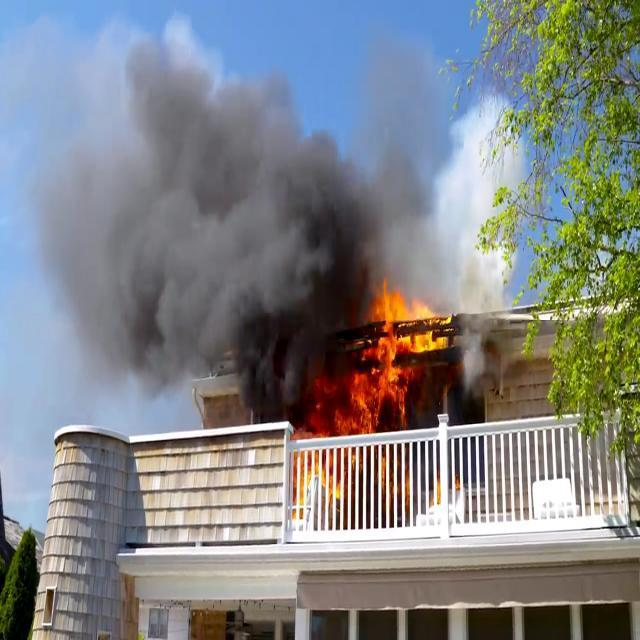Fire: (321, 282, 446, 428), (288, 423, 336, 512)
Smoke: (5, 14, 378, 426), (408, 98, 520, 401)
